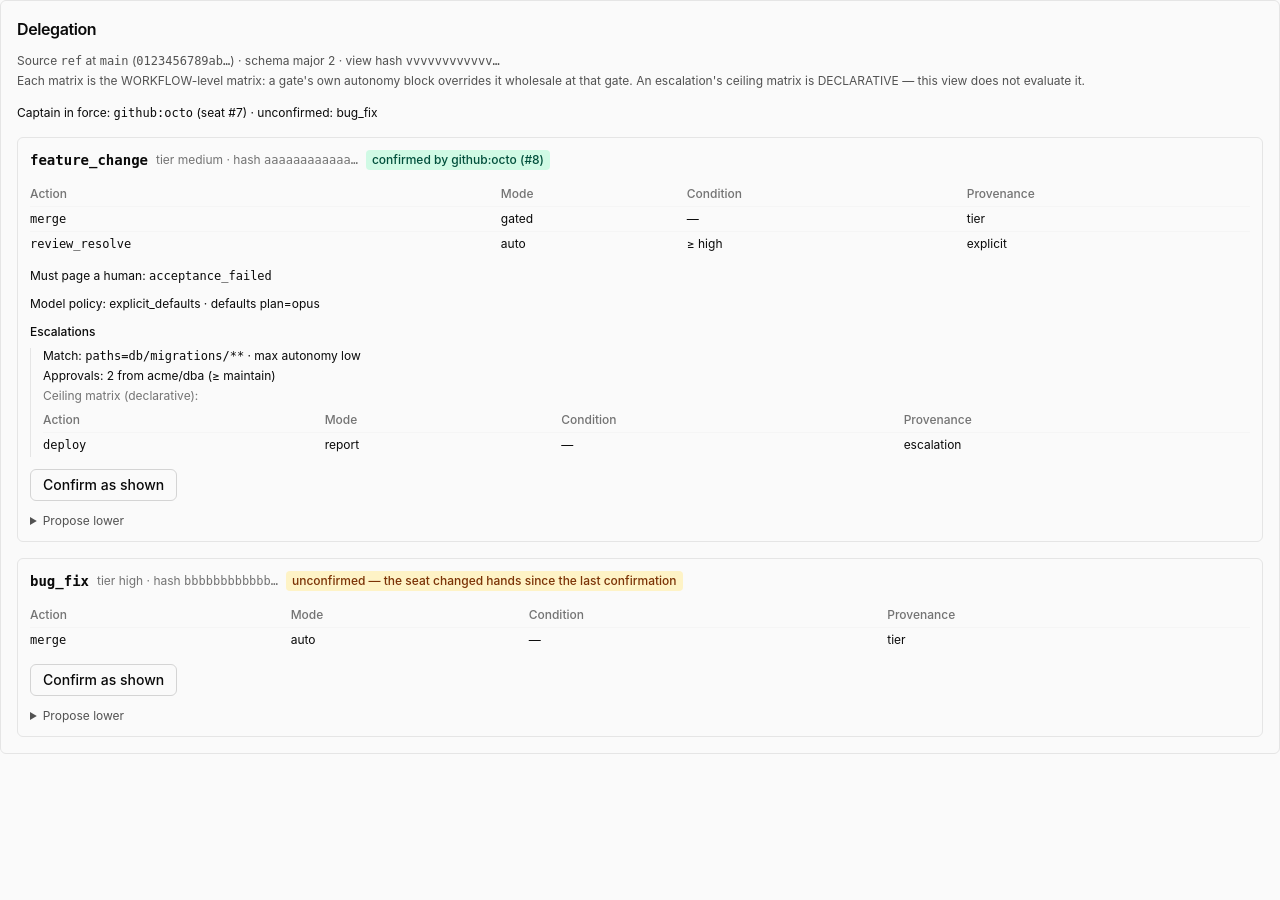
Test: <DelegationPanel> confirm › a 409 delegation_hash_stale renders current_content_hash and re-reads the view
Expected: the element with test id "delegation-workflow-feature_change" is shown, [17,137,1263,542]
Click the button "Confirm as shown" below "deploy" at point(104, 485), box [30,469,177,501]
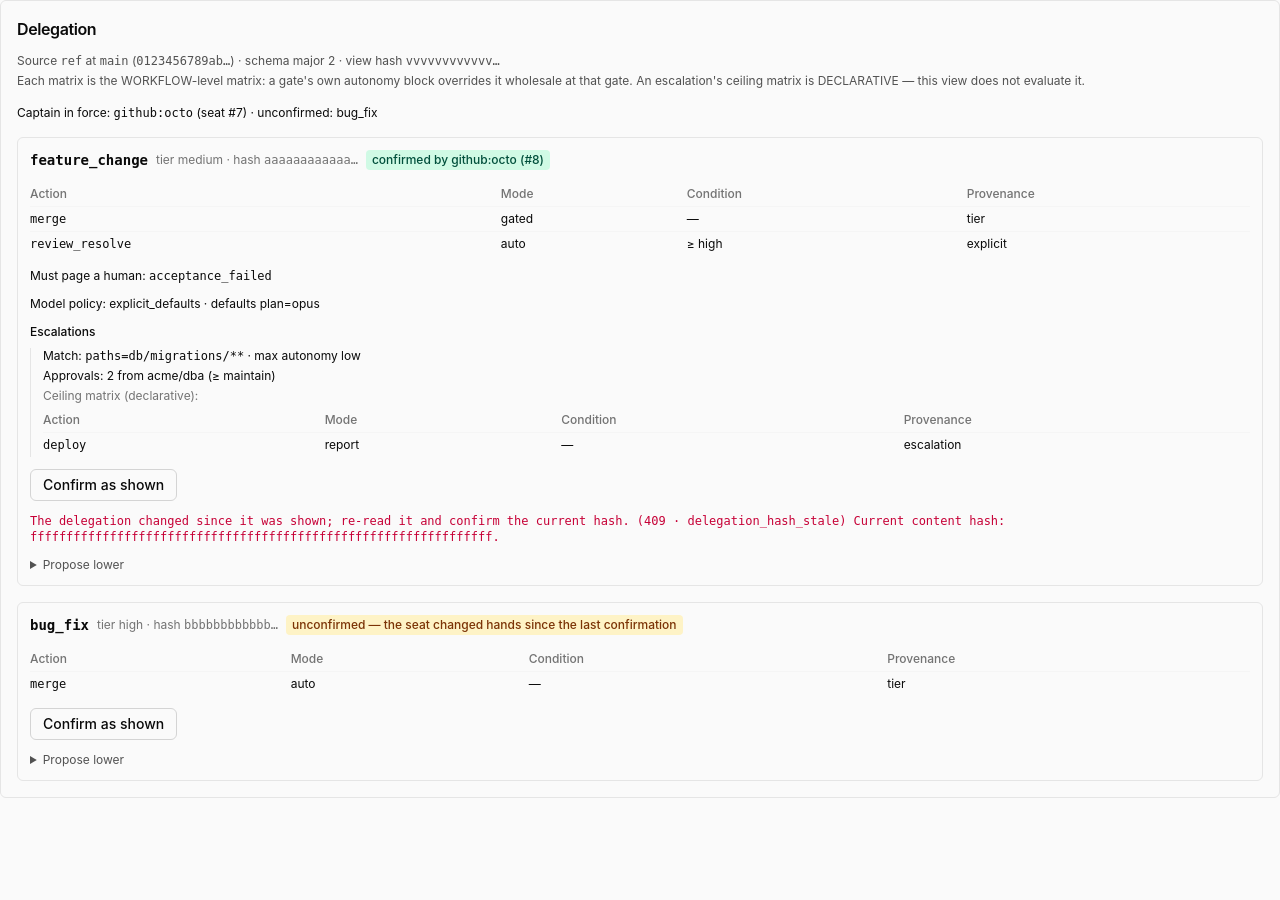
Expected: the element with test id "delegation-workflow-feature_change" is shown, [17,137,1263,586]
Now the message shows "(409 · delegation_hash_stale)", box [30,514,1005,544]
